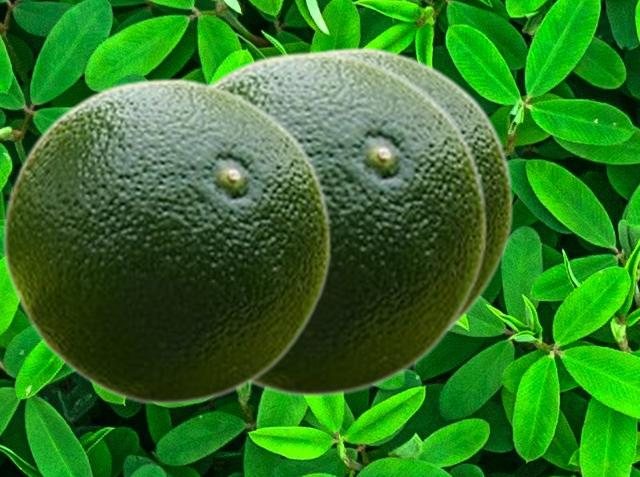calamansi: (1, 77, 332, 404), (205, 50, 488, 396), (305, 46, 514, 335)
